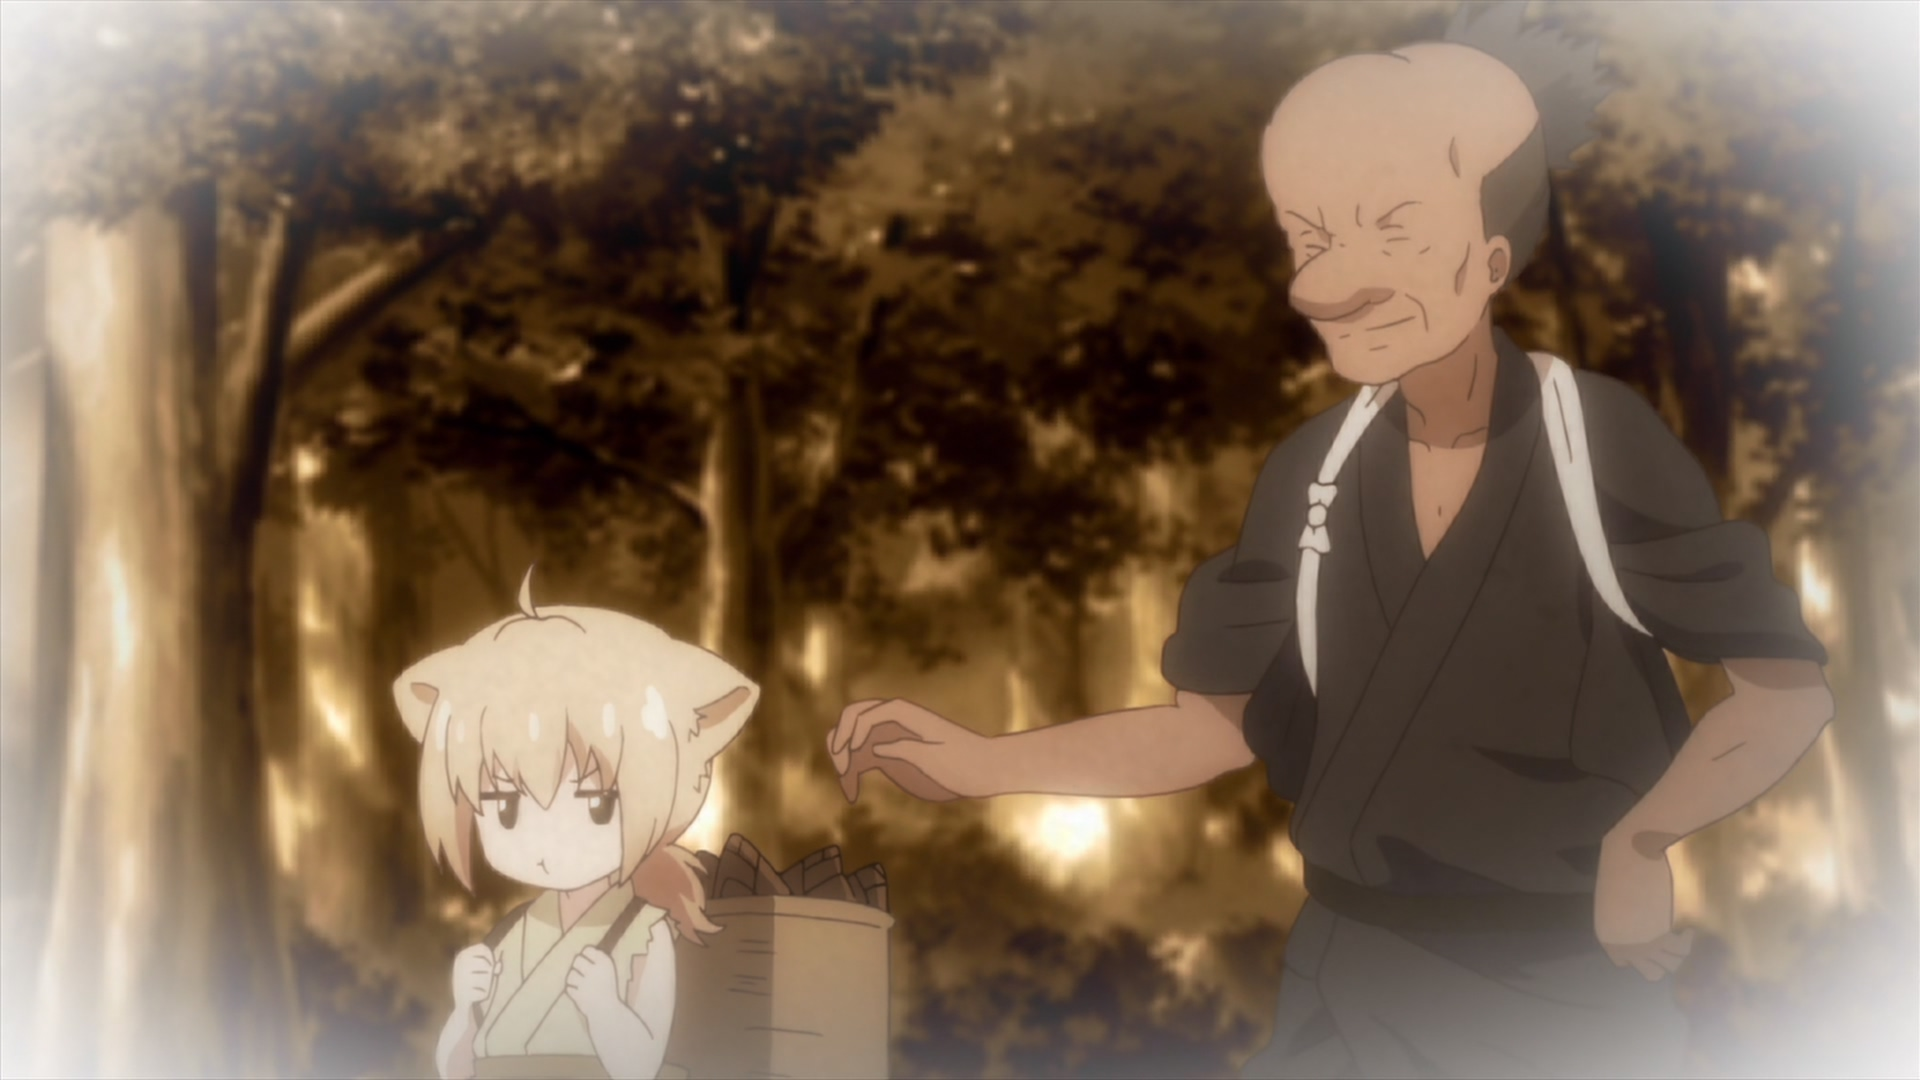其他: (827, 41, 1836, 1080)
柚: (392, 563, 760, 1080)
